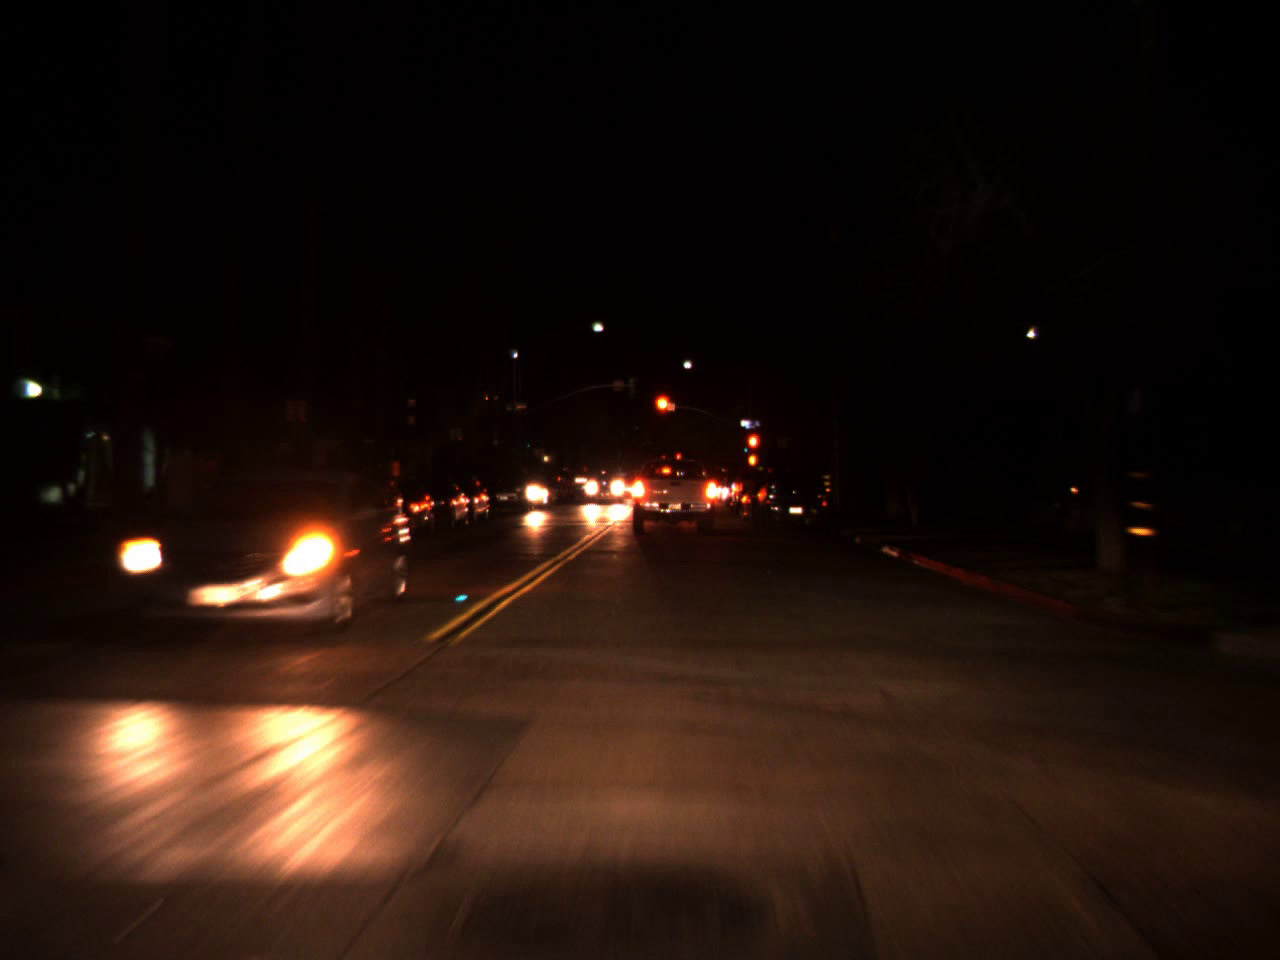stop: (651, 392, 678, 432), (745, 430, 761, 467)
